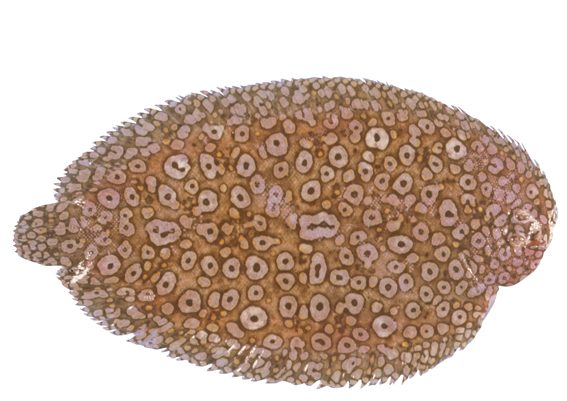fish: (13, 76, 558, 390)
